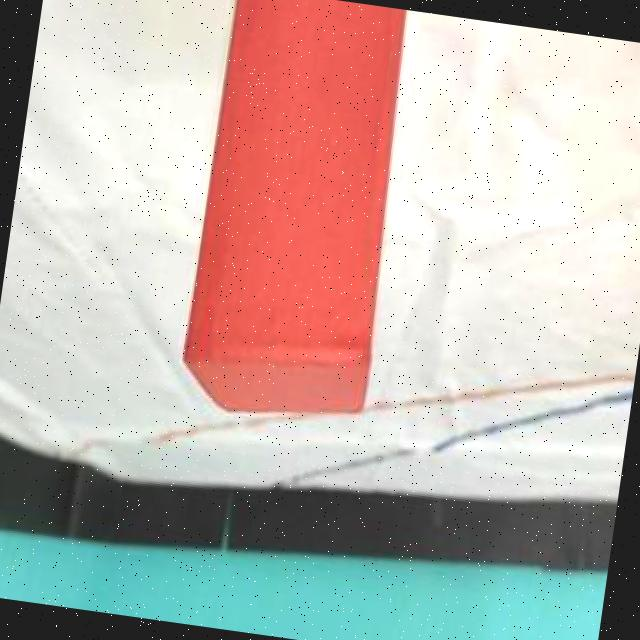redbox: (172, 0, 421, 435)
